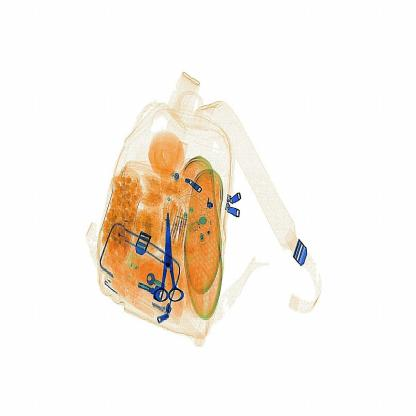gun: (144, 198, 200, 320)
